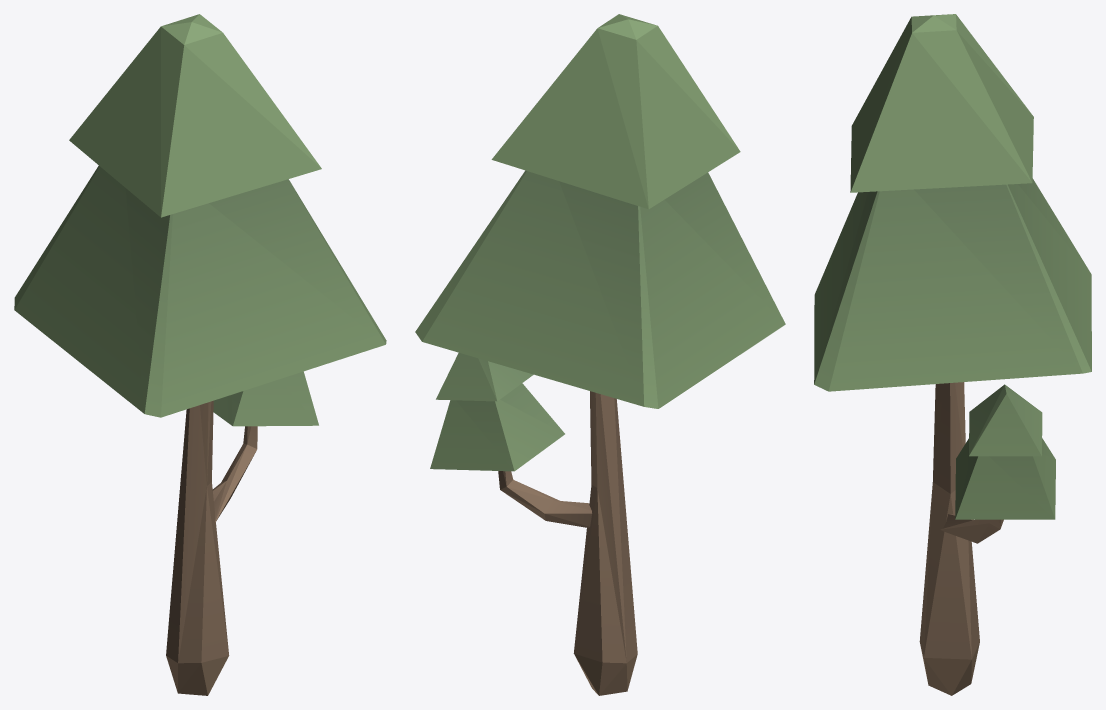
The model's file is decor_tree_c.glb.
3 views of the same model, side by side, from view 1: azimuth 30°, elevation 25°; view 2: azimuth 150°, elevation 25°; view 3: azimuth 270°, elevation 25° (orthographic).
Parts seen in each view (by area): view 1: decor_tree_c; view 2: decor_tree_c; view 3: decor_tree_c.
Boxes of the visible parts, x1,y1,x2,y2 form: decor_tree_c: (14, 14, 386, 695); decor_tree_c: (415, 14, 785, 695); decor_tree_c: (814, 14, 1091, 695).
Size of the model in its own units: 0.5089 by 1.35 by 0.5079.
